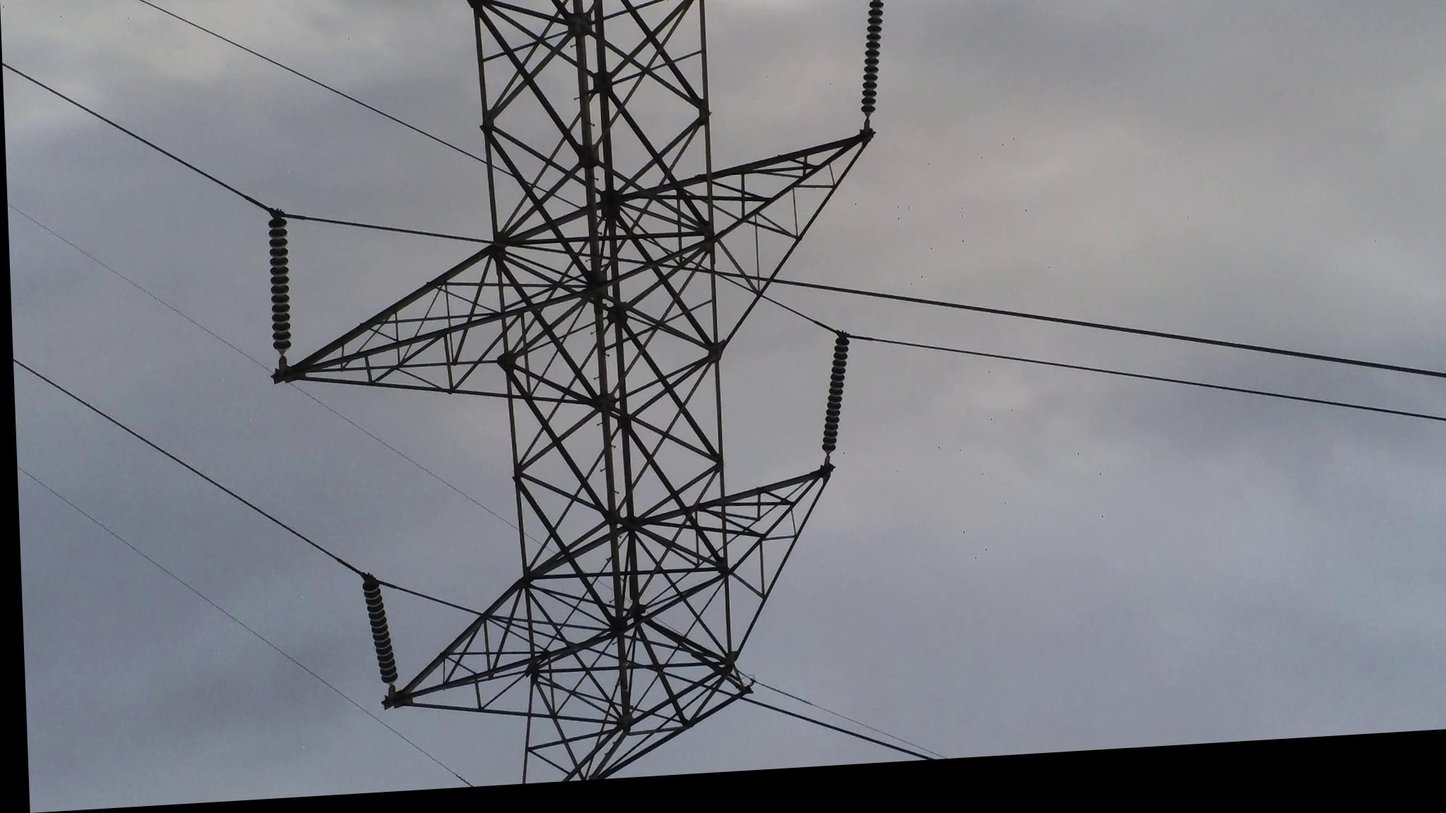tower: (252, 0, 919, 798)
